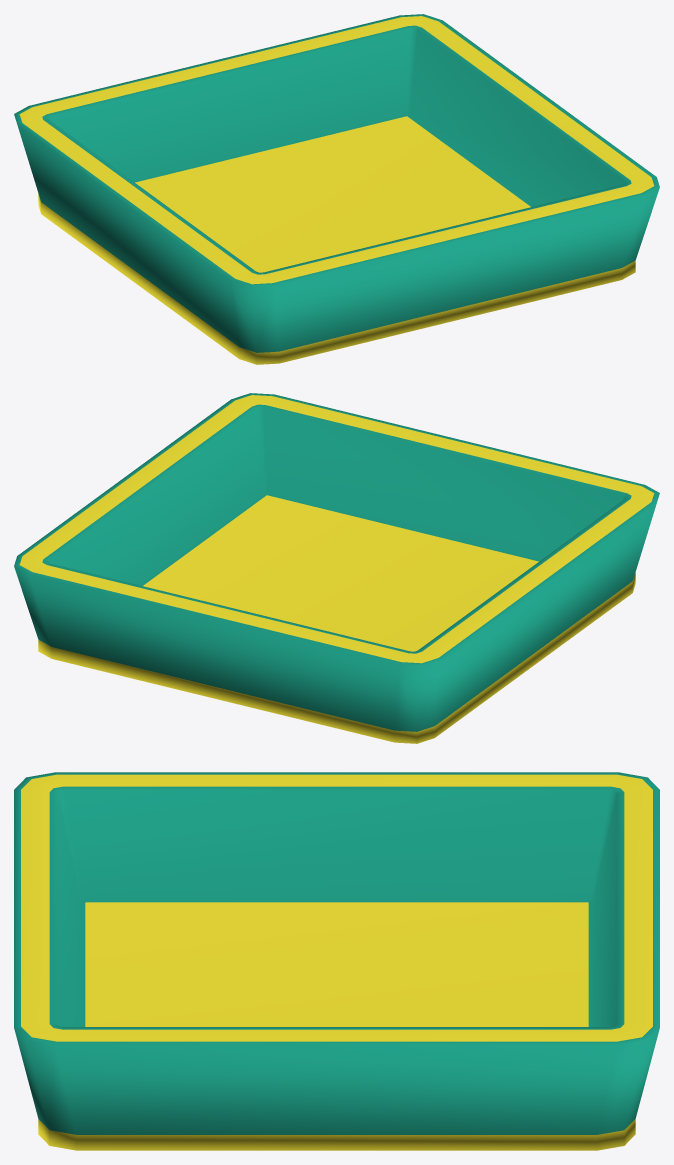
Rendered from SM_Dishes_3.fbx.
3 views of the same model, one above another, from view 1: azimuth 30°, elevation 25°; view 2: azimuth 150°, elevation 25°; view 3: azimuth 270°, elevation 25° (orthographic). The views are drawn at different scales.
Visible parts, largest first — view 1: SM_Dishes_3_LOD0; view 2: SM_Dishes_3_LOD0; view 3: SM_Dishes_3_LOD0.
Part boxes in pixels (x1,y1,x2,y2): SM_Dishes_3_LOD0: (14,14,659,364); SM_Dishes_3_LOD0: (14,393,659,743); SM_Dishes_3_LOD0: (14,772,659,1150).
Size of the model in its own units: 49.2 by 49.2 by 9.77.
1 material, 1 textured.
